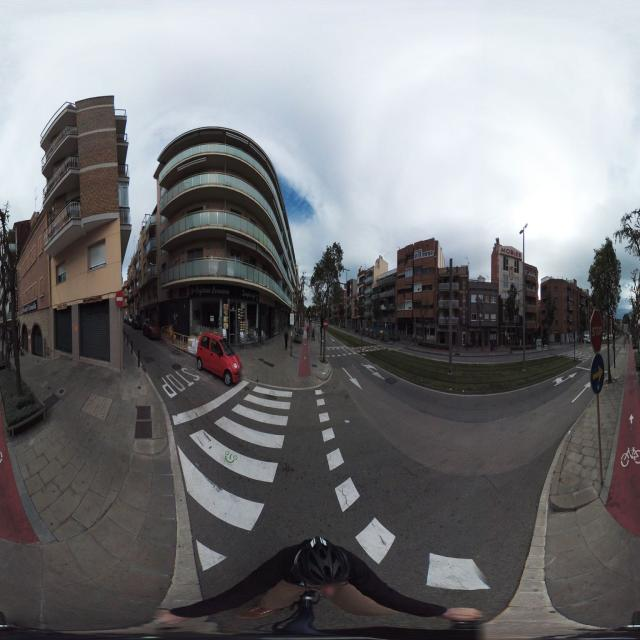car: (196, 332, 242, 386), (148, 321, 162, 340), (142, 317, 152, 335)
